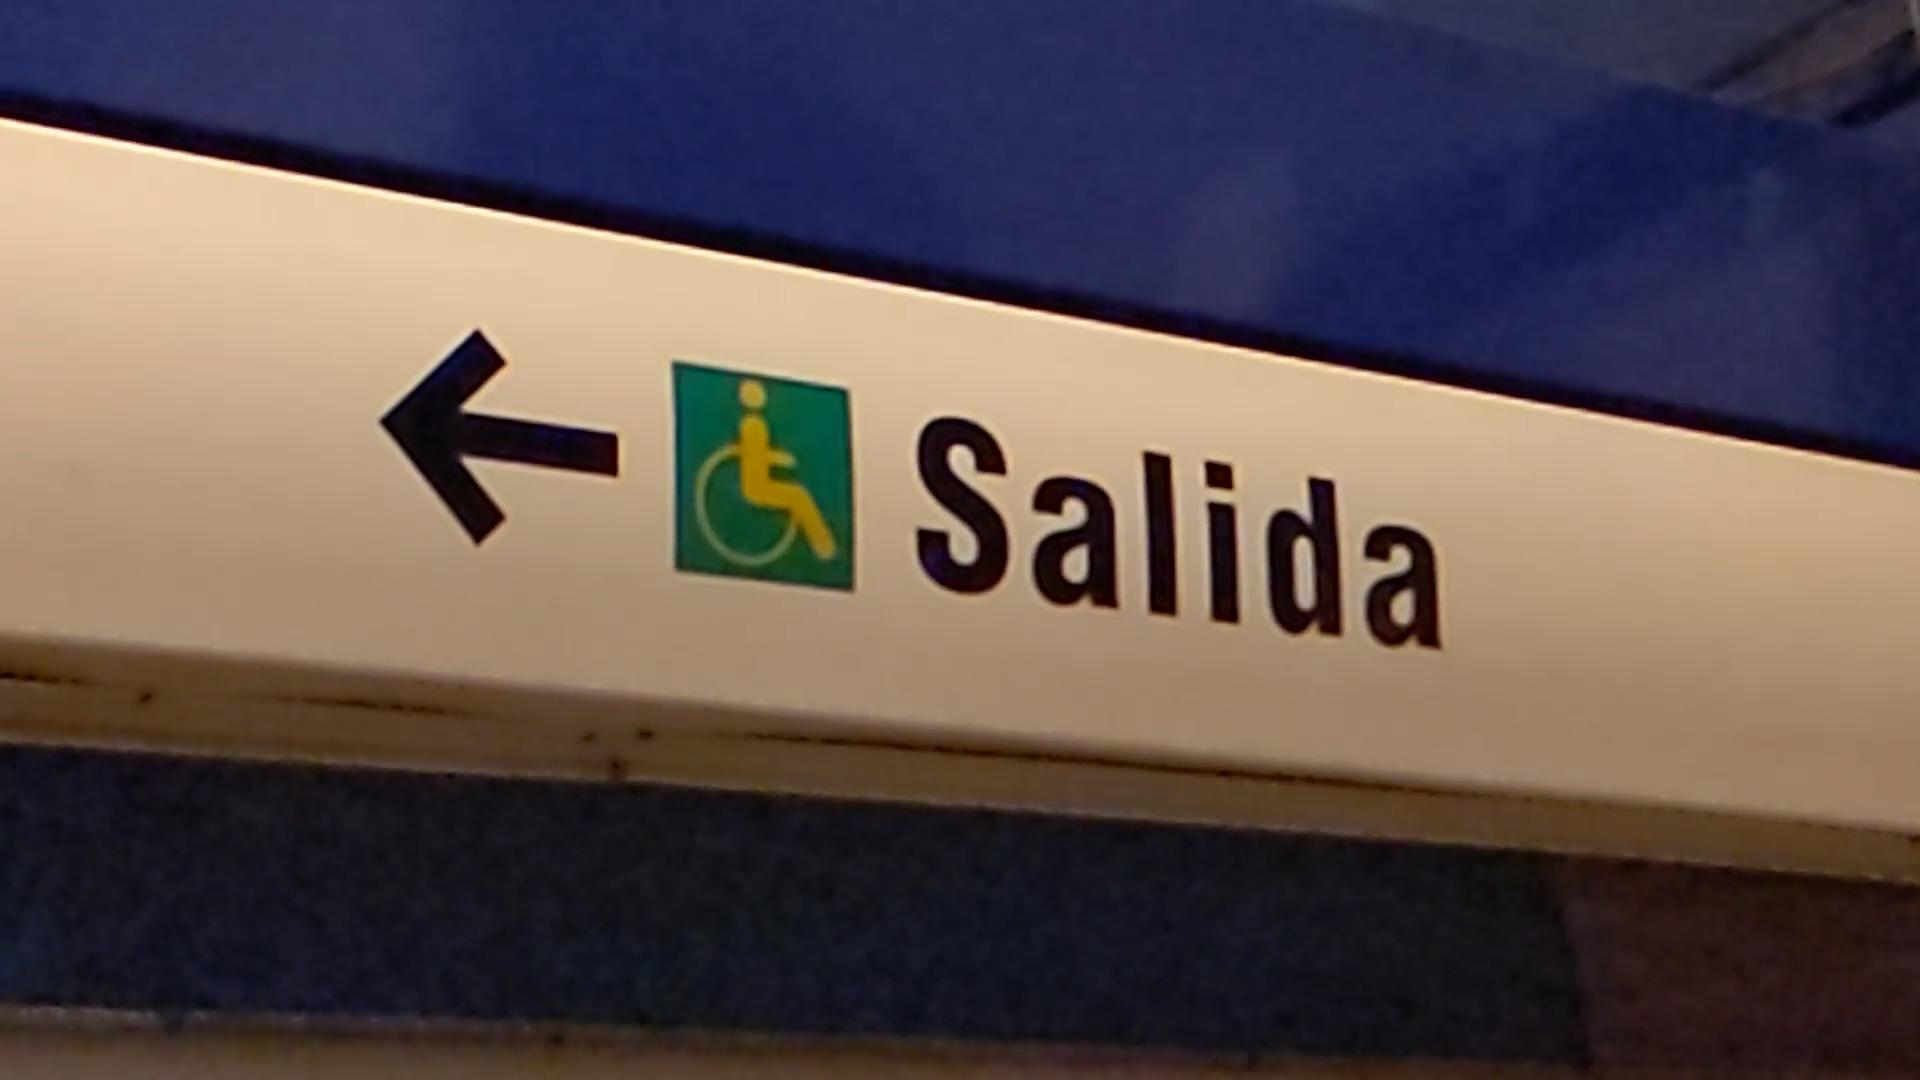handicapped symbol: (687, 377, 843, 574)
left arrow: (377, 323, 630, 556)
